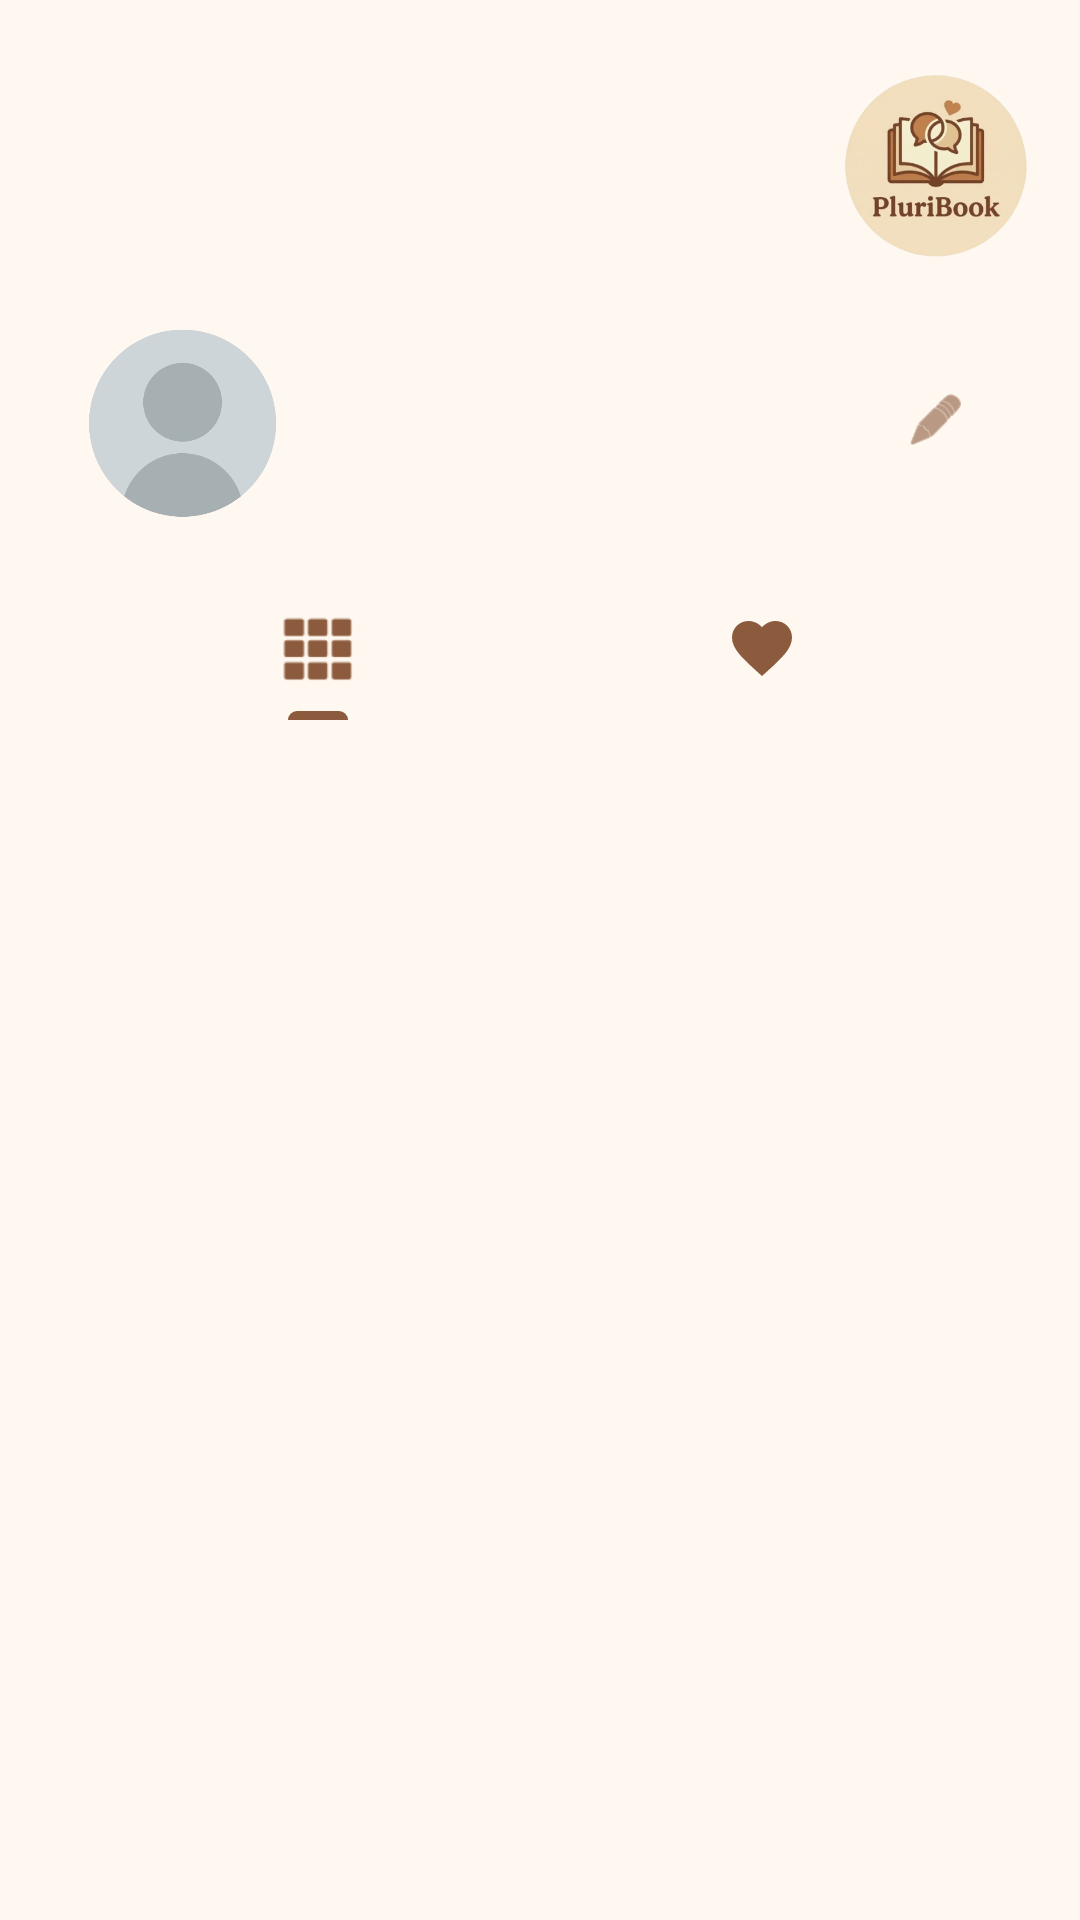

Icon click points for this 1080 × 1920 phone screenshot, format [x,y]:
edit: [935,419]
profile photo: [182,423]
